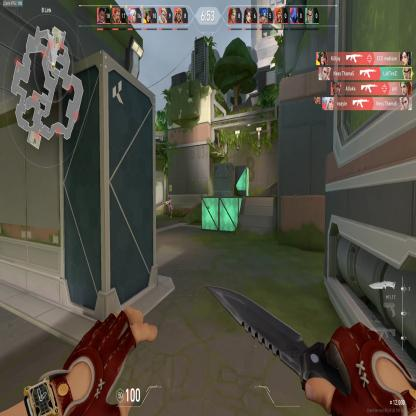enemy: (166, 196, 172, 218)
